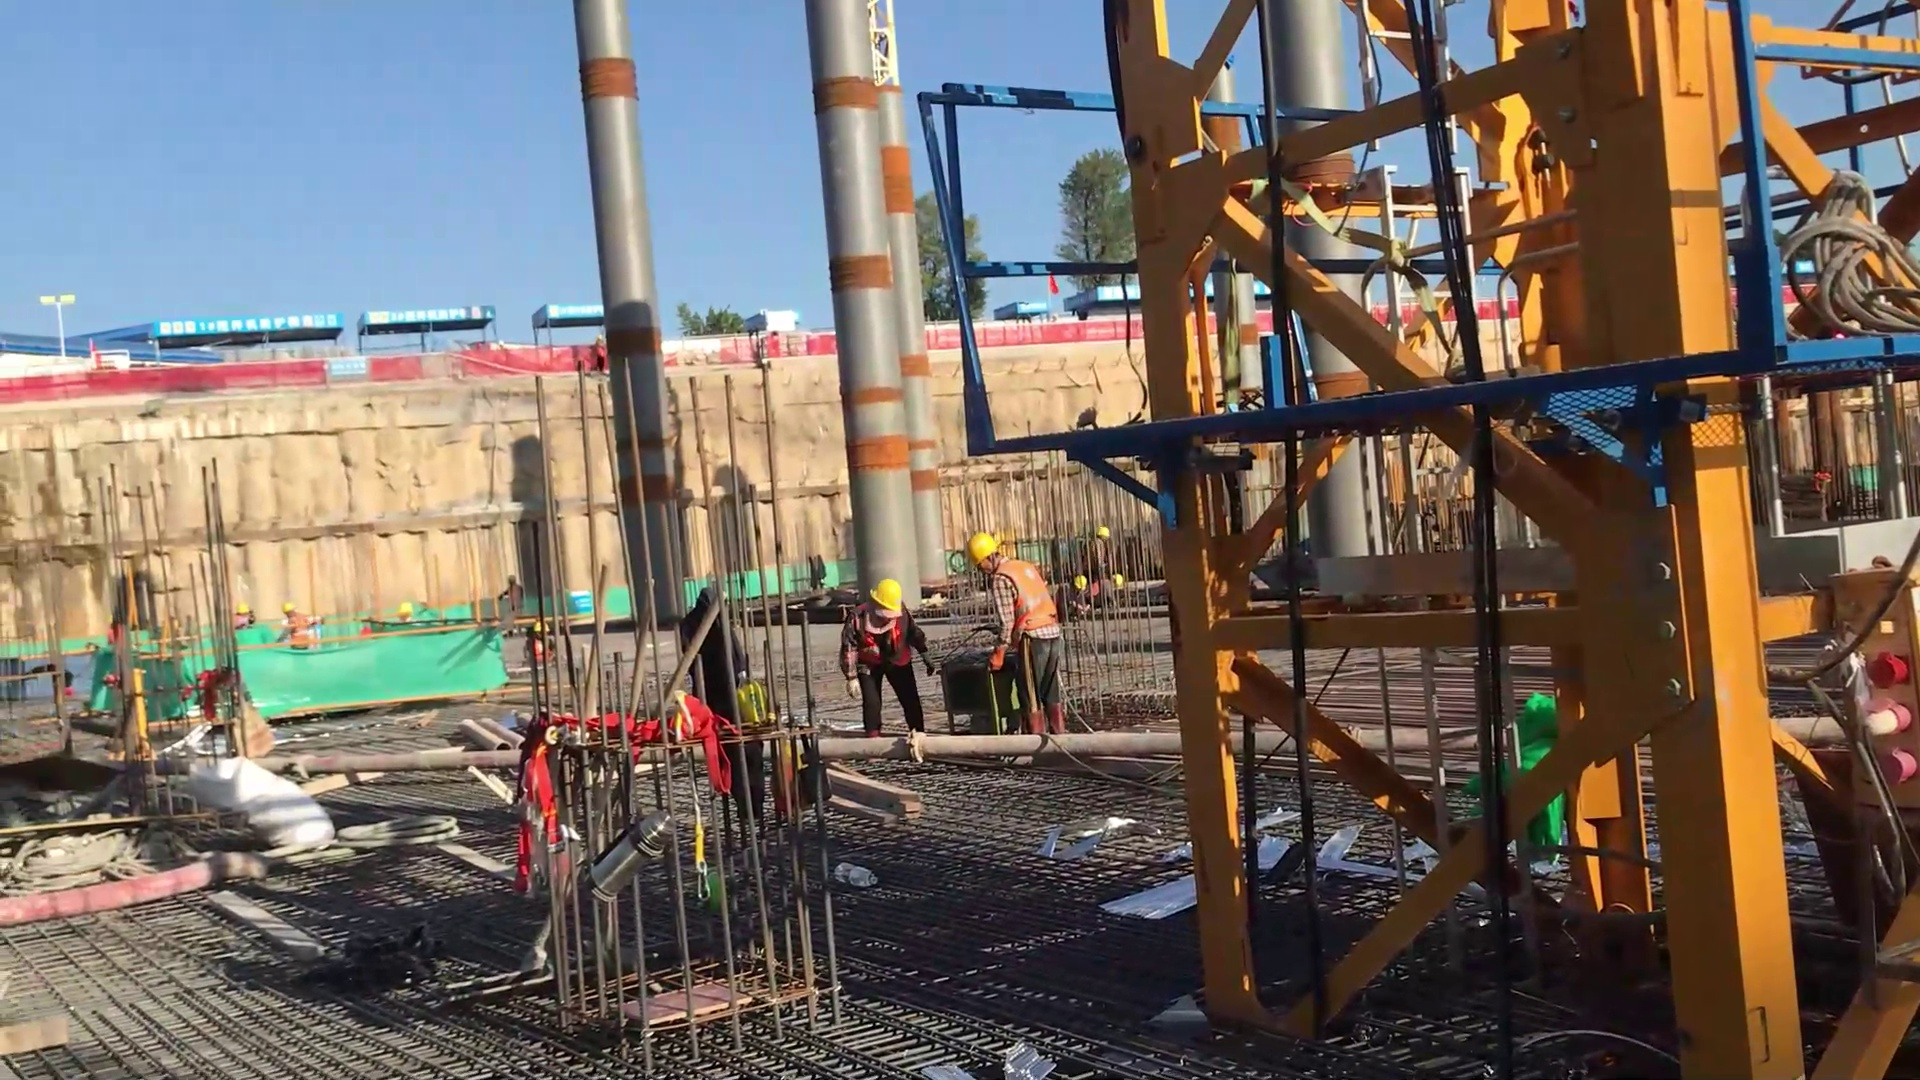fence: (370, 352, 608, 374), (982, 317, 1129, 342), (194, 357, 330, 384), (4, 371, 197, 389)
helmet: (964, 532, 1004, 574), (868, 577, 904, 614), (280, 601, 301, 614), (236, 604, 252, 615)
person: (959, 526, 1103, 745), (844, 576, 937, 737)
slogan: (159, 305, 345, 337), (361, 306, 494, 323), (545, 298, 602, 320), (327, 353, 369, 374)
vest: (992, 555, 1058, 641), (853, 599, 913, 666)
